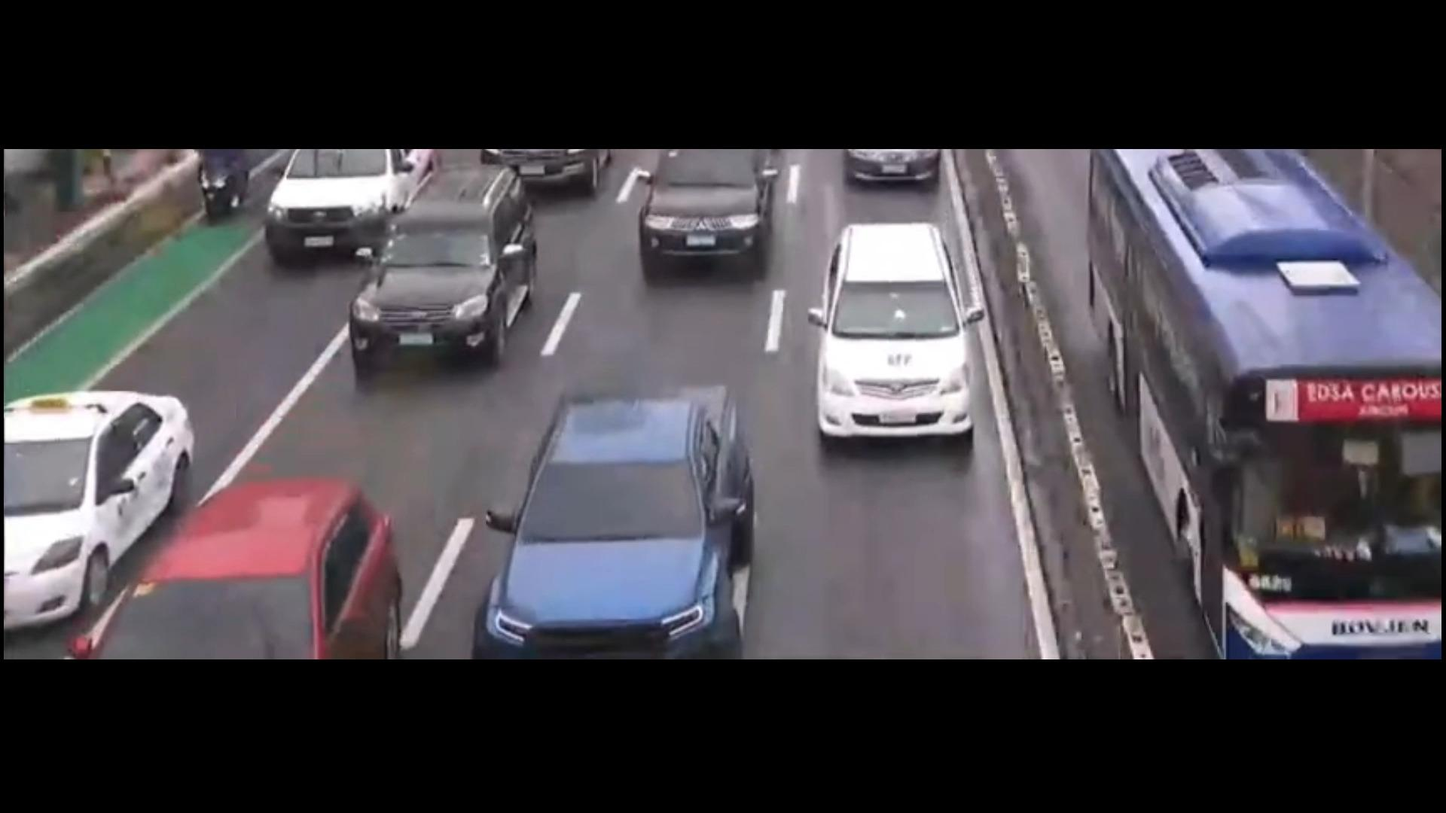Bus: (1083, 147, 1446, 659)
Motorcycle: (162, 147, 263, 236)
Pickup: (465, 369, 821, 647)
SUV: (780, 209, 1021, 483), (339, 164, 561, 388)
Sedan: (71, 458, 443, 665), (0, 377, 213, 638)
